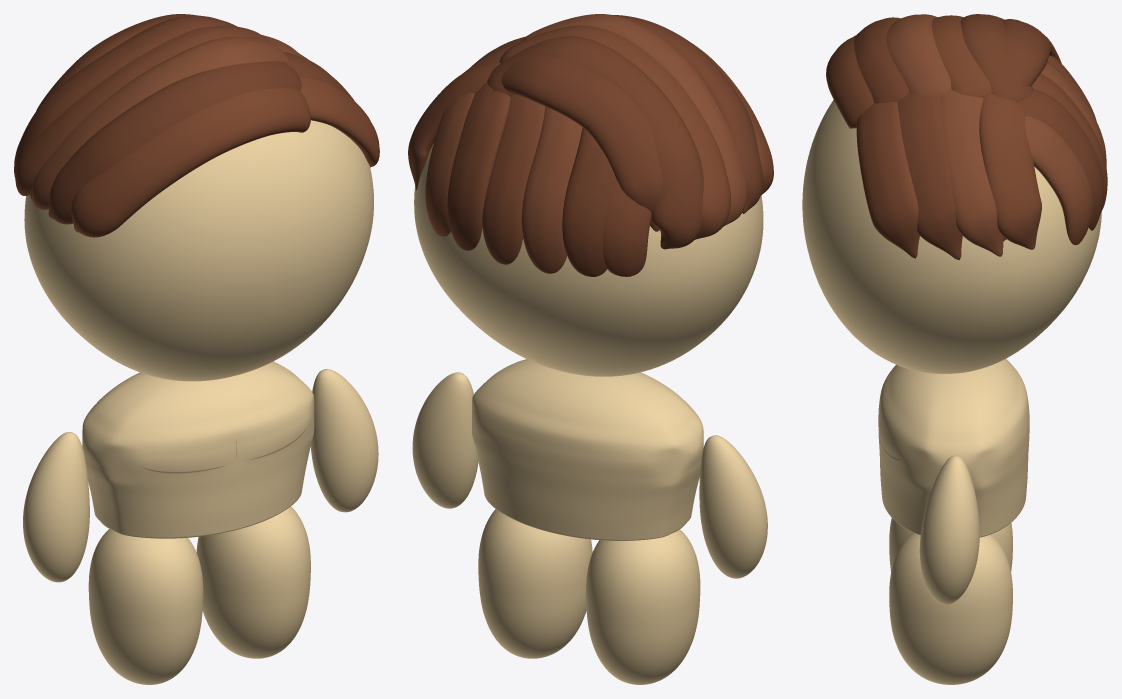
Rendered from Masculine-shirtless-base.glb.
3 views of the same model, side by side, from view 1: azimuth 30°, elevation 25°; view 2: azimuth 150°, elevation 25°; view 3: azimuth 270°, elevation 25° (orthographic).
Parts seen in each view (by area): view 1: Skin / soft oval head, Skin / rounded torso, Skin / leg blob -1, Skin / leg blob 1, Hair / Side part main 0, Hair / Side part main 1, Skin / swept arm -1, Skin / swept arm 1, Hair / Side part main 2, Hair / Side part main 3, Hair / Side part main 4, Hair / Side part short 0 (+2 smaller); view 2: Skin / rounded torso, Skin / soft oval head, Skin / leg blob -1, Skin / leg blob 1, Hair / Side part crown, Hair / Side part main 4, Skin / swept arm -1, Skin / swept arm 1, Hair / Side part nape 2, Hair / Side part main 3, Hair / Side part nape 3, Hair / Side part nape 4 (+7 smaller); view 3: Skin / soft oval head, Skin / rounded torso, Skin / leg blob 1, Skin / swept arm 1, Hair / Side part short 3, Hair / Side part short 0, Hair / Side part short 1, Hair / Side part short 2, Hair / Side part nape 5, Hair / Side part main 2, Hair / Side part nape 4, Hair / Side part main 4 (+7 smaller).
Boxes of the visible parts, box(x1,y1,x2,y2) form: Skin / soft oval head: box(24, 120, 373, 381); Skin / rounded torso: box(82, 361, 314, 538); Skin / leg blob -1: box(88, 529, 203, 684); Skin / leg blob 1: box(196, 506, 310, 658); Hair / Side part main 0: box(71, 88, 310, 237); Hair / Side part main 1: box(48, 61, 301, 224); Skin / swept arm -1: box(23, 432, 89, 582); Skin / swept arm 1: box(310, 369, 378, 512); Hair / Side part main 2: box(31, 36, 288, 209); Hair / Side part main 3: box(15, 26, 269, 195); Hair / Side part main 4: box(14, 15, 236, 177); Hair / Side part short 0: box(298, 75, 379, 167); Skin / rounded torso: box(472, 359, 703, 540); Skin / soft oval head: box(414, 143, 763, 376); Skin / leg blob -1: box(586, 529, 700, 684); Skin / leg blob 1: box(478, 509, 592, 658); Hair / Side part crown: box(501, 55, 662, 231); Hair / Side part main 4: box(487, 36, 703, 249); Skin / swept arm -1: box(699, 435, 767, 578); Skin / swept arm 1: box(412, 372, 478, 508); Hair / Side part nape 2: box(521, 106, 582, 273); Hair / Side part main 3: box(499, 25, 730, 239); Hair / Side part nape 3: box(482, 94, 545, 264); Hair / Side part nape 4: box(447, 82, 510, 250); Skin / soft oval head: box(802, 100, 1101, 373); Skin / rounded torso: box(878, 359, 1029, 537); Skin / leg blob 1: box(889, 532, 1012, 684); Skin / swept arm 1: box(919, 455, 979, 604); Hair / Side part short 3: box(979, 93, 1041, 249); Hair / Side part short 0: box(856, 102, 919, 258); Hair / Side part short 1: box(897, 93, 962, 260); Hair / Side part short 2: box(940, 89, 1003, 256); Hair / Side part nape 5: box(1025, 116, 1092, 244); Hair / Side part main 2: box(886, 14, 951, 96); Hair / Side part nape 4: box(1016, 89, 1104, 230); Hair / Side part main 4: box(960, 14, 1032, 102).
Bounding box in the file's own units: 1.07 × 1.87 × 0.825.
